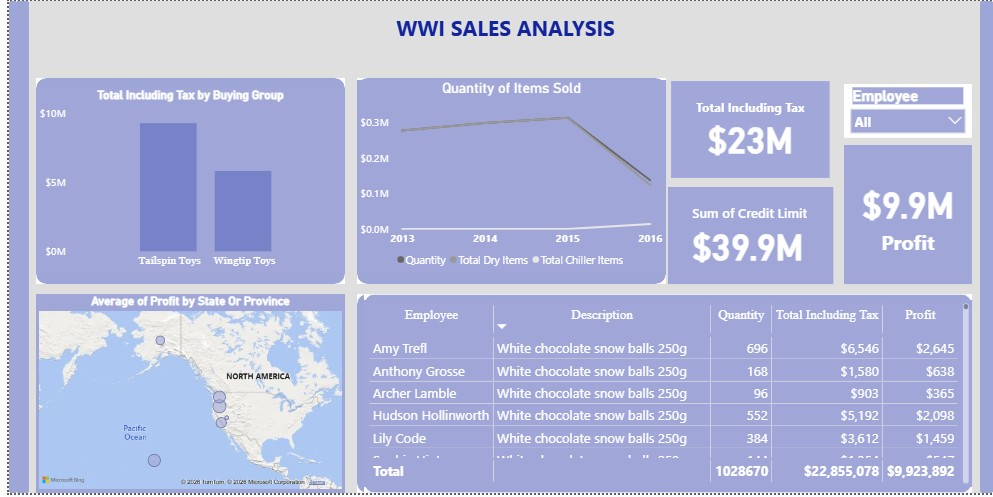

The page's visual inventory and layout, read from the dashboard file:
{"tool":"powerbi","page":{"name":"WWI DASHBOARD","canvas":[1500,750],"ordinal":2},"visuals":[{"type":"textbox","box":[512.2,13.7,489.3,118.9],"z":0},{"type":"shape","box":[41.2,446.6,471,303.4],"z":1000},{"type":"shape","box":[0,0,19.8,750],"z":2000},{"type":"shape","box":[1480.2,0,19.8,750],"z":3000},{"type":"shape","box":[10,0,19.8,750],"z":4000},{"type":"shape","box":[41.2,117.4,471,314],"z":5000},{"type":"shape","box":[530.5,446.6,471,303.4],"z":6000},{"type":"shape","box":[530.5,117.4,471,314],"z":7000},{"type":"shape","box":[541.2,446.6,926.8,303.4],"z":8000},{"type":"card","fields":{"Values":["Sum(FactSale.Profit)"]},"box":[1272.9,219.5,195.1,211.9],"z":9000},{"type":"cardVisual","title":"Sum of Credit Limit","fields":{"Data":["Sum(DimCustomer.Credit Limit)"]},"box":[1004.6,283.5,251.5,147.9],"z":10000},{"type":"cardVisual","fields":{"Data":["Sum(FactSale.Total Including Tax)"]},"box":[1004.6,117.4,251.5,157],"z":11000},{"type":"slicer","fields":{"Values":["DimEmployee.Employee"]},"box":[1272.9,126.5,195.1,82.3],"z":12000},{"type":"tableEx","fields":{"Values":["DimEmployee.Employee","FactSale.Description","Sum(FactSale.Quantity)","Sum(FactSale.Total Including Tax)","Sum(FactSale.Profit)"]},"box":[541.2,455.8,926.8,285.1],"z":13000},{"type":"clusteredColumnChart","fields":{"Category":["DimCustomer.Buying Group"],"Y":["Sum(FactSale.Total Including Tax)"]},"box":[41.2,132.6,471,282],"z":14000},{"type":"map","fields":{"Category":["DimCity.State Or Province"],"Size":["Avg(FactSale.Profit)"]},"box":[41.2,446.6,471,303.4],"z":15000},{"type":"lineChart","title":"Quantity of Items Sold","fields":{"Category":["DimDate.Calendar Year"],"Y":["Sum(FactSale.Quantity)","Sum(FactSale.Total Dry Items)","Sum(FactSale.Total Chiller Items)"]},"box":[530.5,120.4,471,294.2],"z":16000}]}

Visuals, with their boxes in screenshot pixels (x1, y1, x2, y2), scaled from the page's 1500x750 canvas onto the 993x497 screenshot:
textbox: [left=339, top=9, right=663, bottom=88]
shape: [left=27, top=296, right=339, bottom=496]
shape: [left=0, top=0, right=13, bottom=496]
shape: [left=980, top=0, right=992, bottom=496]
shape: [left=7, top=0, right=20, bottom=496]
shape: [left=27, top=78, right=339, bottom=286]
shape: [left=351, top=296, right=663, bottom=496]
shape: [left=351, top=78, right=663, bottom=286]
shape: [left=358, top=296, right=972, bottom=496]
card - Sum(FactSale.Profit): [left=843, top=145, right=972, bottom=286]
"Sum of Credit Limit" cardVisual: [left=665, top=188, right=832, bottom=286]
cardVisual - Sum(FactSale.Total Including Tax): [left=665, top=78, right=832, bottom=182]
slicer - DimEmployee.Employee: [left=843, top=84, right=972, bottom=138]
tableEx - DimEmployee.Employee x FactSale.Description: [left=358, top=302, right=972, bottom=491]
clusteredColumnChart - DimCustomer.Buying Group x Sum(FactSale.Total Including Tax): [left=27, top=88, right=339, bottom=275]
map - DimCity.State Or Province x Avg(FactSale.Profit): [left=27, top=296, right=339, bottom=496]
"Quantity of Items Sold" lineChart: [left=351, top=80, right=663, bottom=275]
